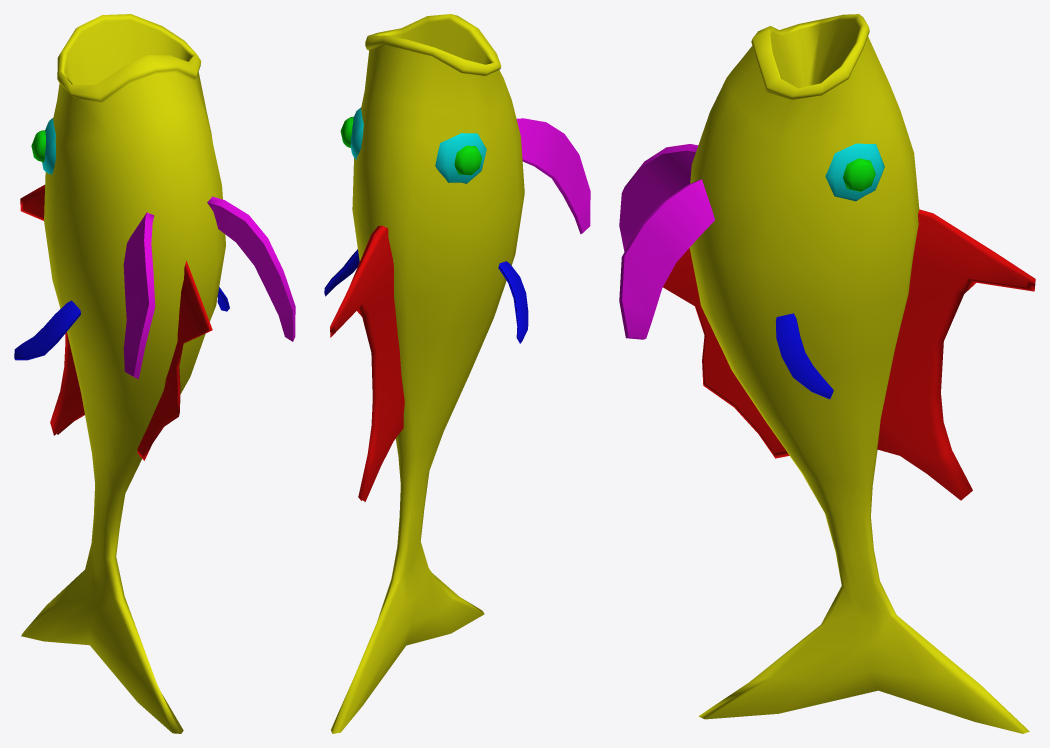
The model's file is FishParticle.fbx.
3 views of the same model, side by side, from view 1: azimuth 30°, elevation 25°; view 2: azimuth 150°, elevation 25°; view 3: azimuth 270°, elevation 25° (orthographic). The views are drawn at different scales.
Parts seen in each view (by area): view 1: polySurface9; view 2: polySurface9; view 3: polySurface9.
Part boxes in pixels (x1=…): polySurface9: x1=14, y1=14, x2=295, y2=733; polySurface9: x1=324, y1=14, x2=590, y2=733; polySurface9: x1=619, y1=14, x2=1035, y2=733.
Size of the model in its own units: 2.57 by 7.96 by 4.24.
